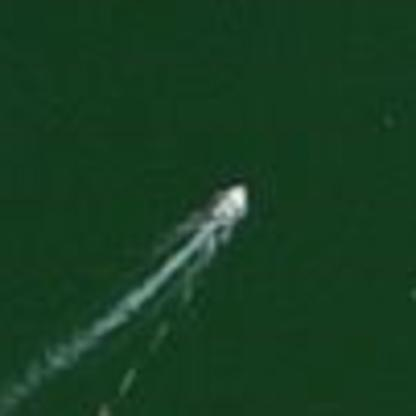ship: (210, 174, 256, 224)
